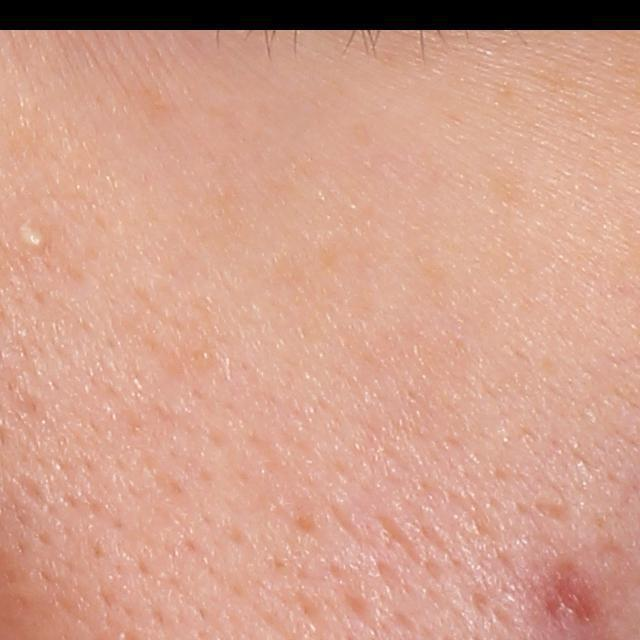melasma: (478, 158, 530, 206)
